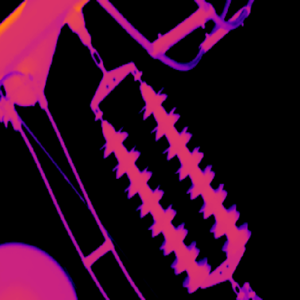insulator: (138, 80, 247, 255), (100, 117, 208, 293)
